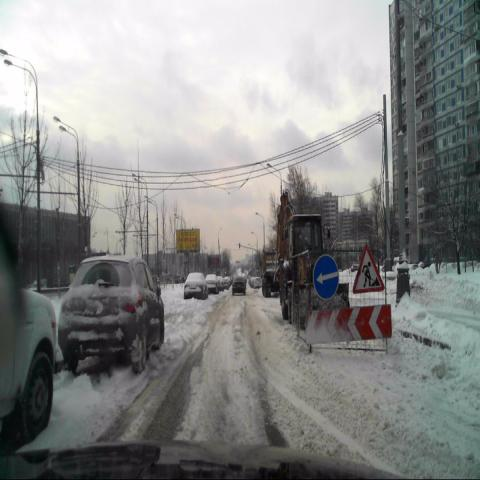4_1_2_2: (313, 255, 339, 300)
